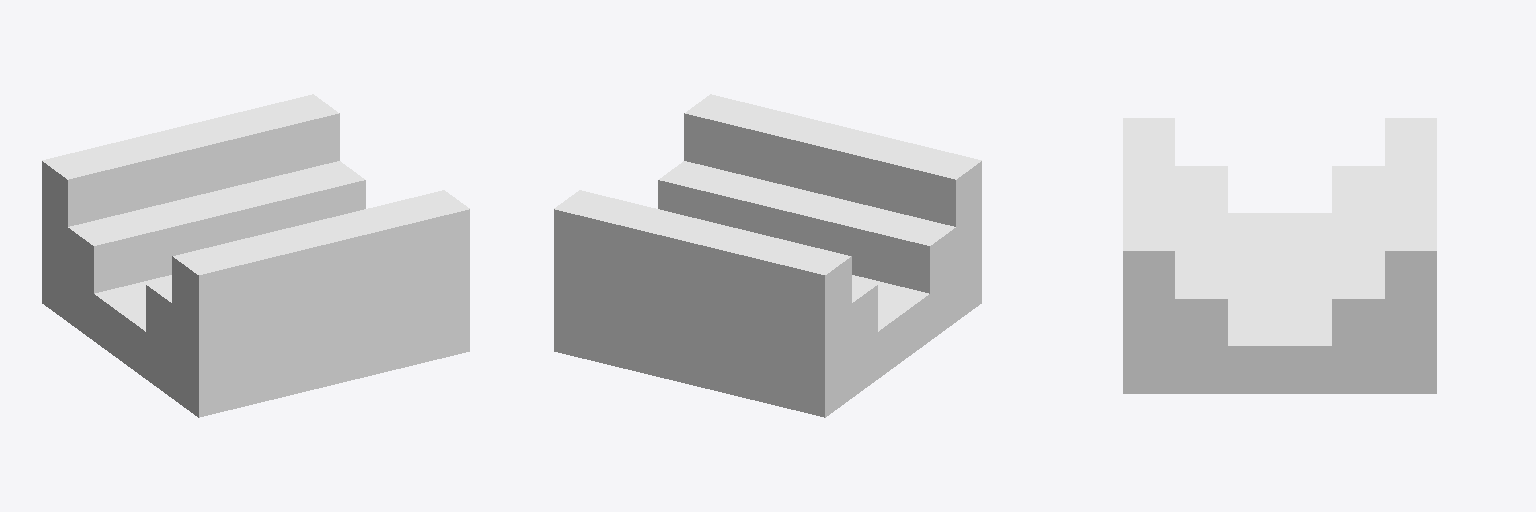
The model's file is RoadBlockA.obj.
3 renders of one model, left to right at view 1: azimuth 30°, elevation 25°; view 2: azimuth 150°, elevation 25°; view 3: azimuth 270°, elevation 25°, orthographic.
Visible parts, largest first — view 1: object 1; view 2: object 1; view 3: object 1.
Part boxes in pixels (x1,y1,x2,y2): object 1: (42, 94, 469, 417); object 1: (554, 94, 981, 417); object 1: (1123, 118, 1436, 393).
Size of the model in its own units: 0.6 by 0.3 by 0.6.